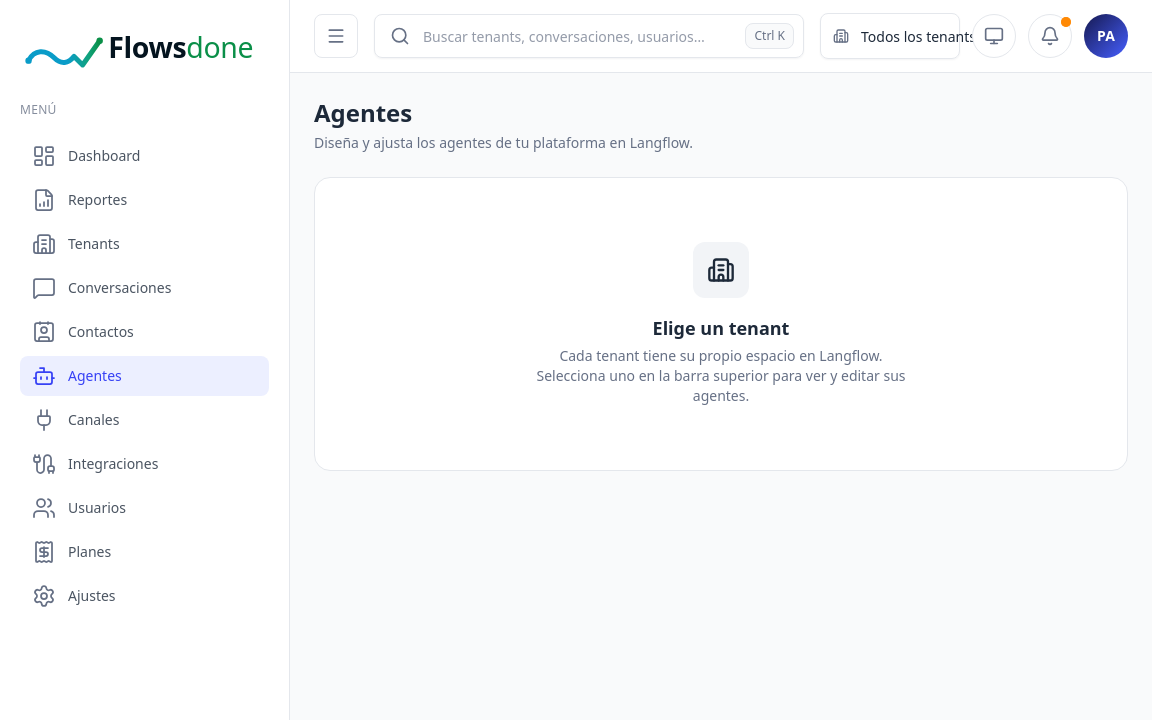
Test case: Agentes: registro y gestión › registra un flujo de la carpeta del proyecto; el nombre sigue al flujo y los ya registrados no se pueden elegir
The image size is (1152, 720).
Select "Clínica Vital" in the dropdown named "Tenant activo" at (928, 36), box 857,14 -> 998,58
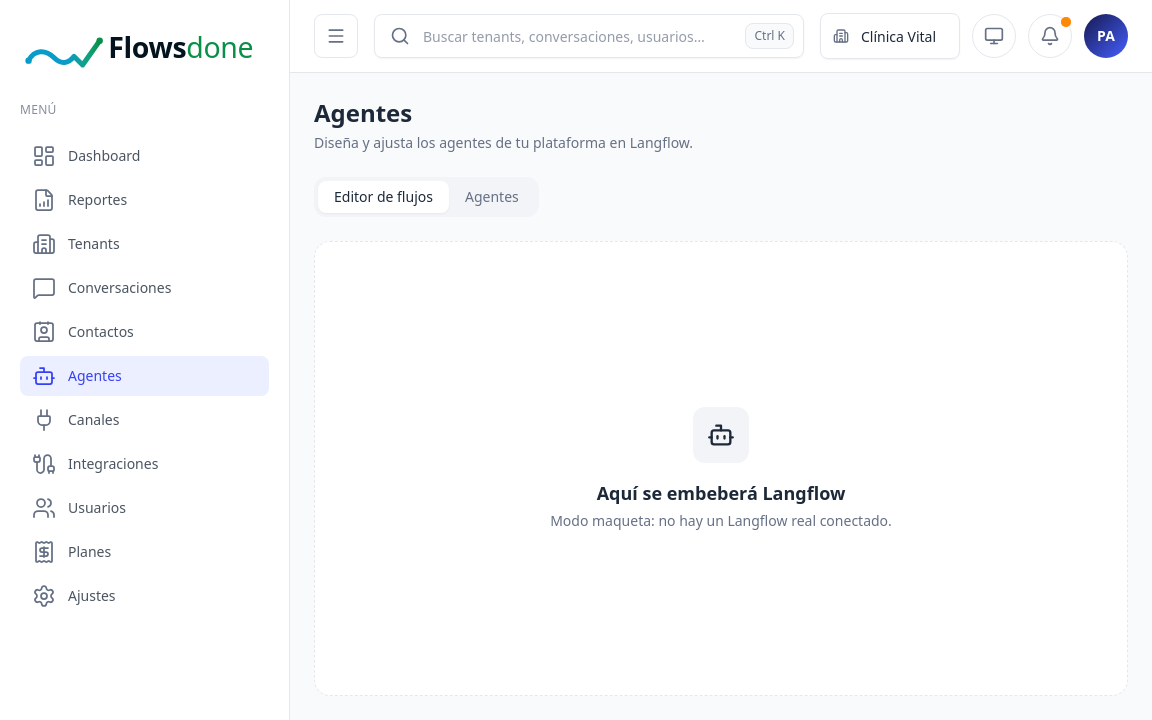
Click the tab "Agentes" at (492, 197), box 449,181 -> 535,213
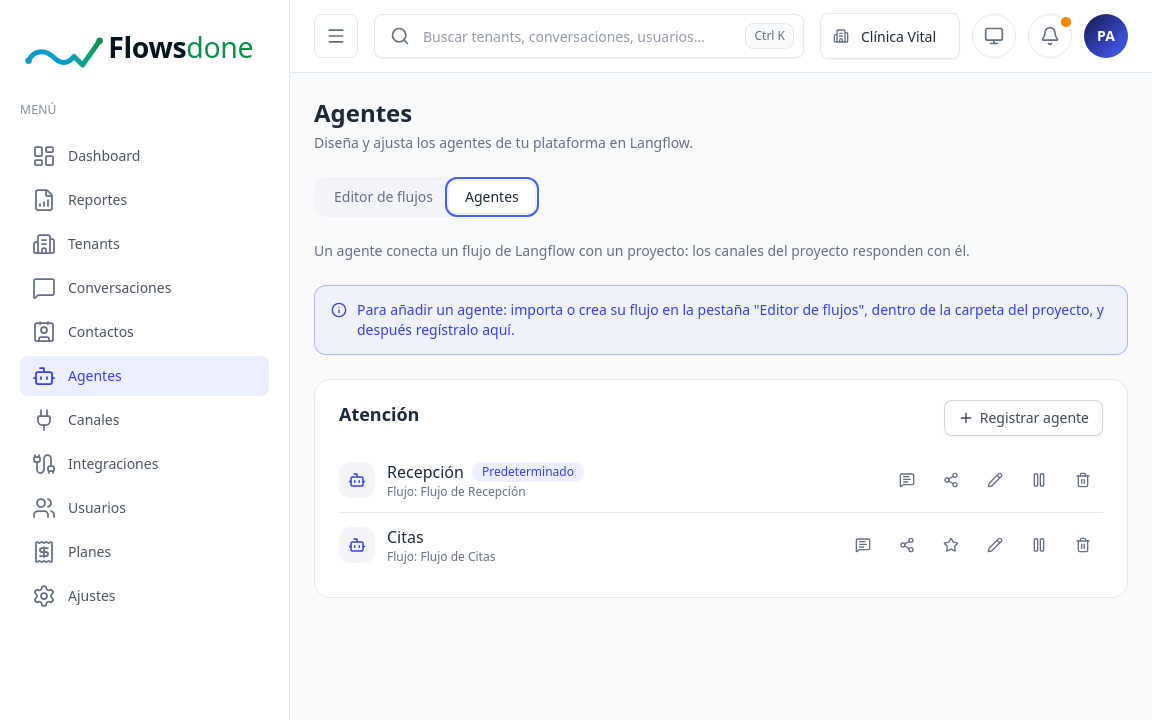
Click the button "Registrar agente" at (1023, 418), box 944,400 -> 1103,436
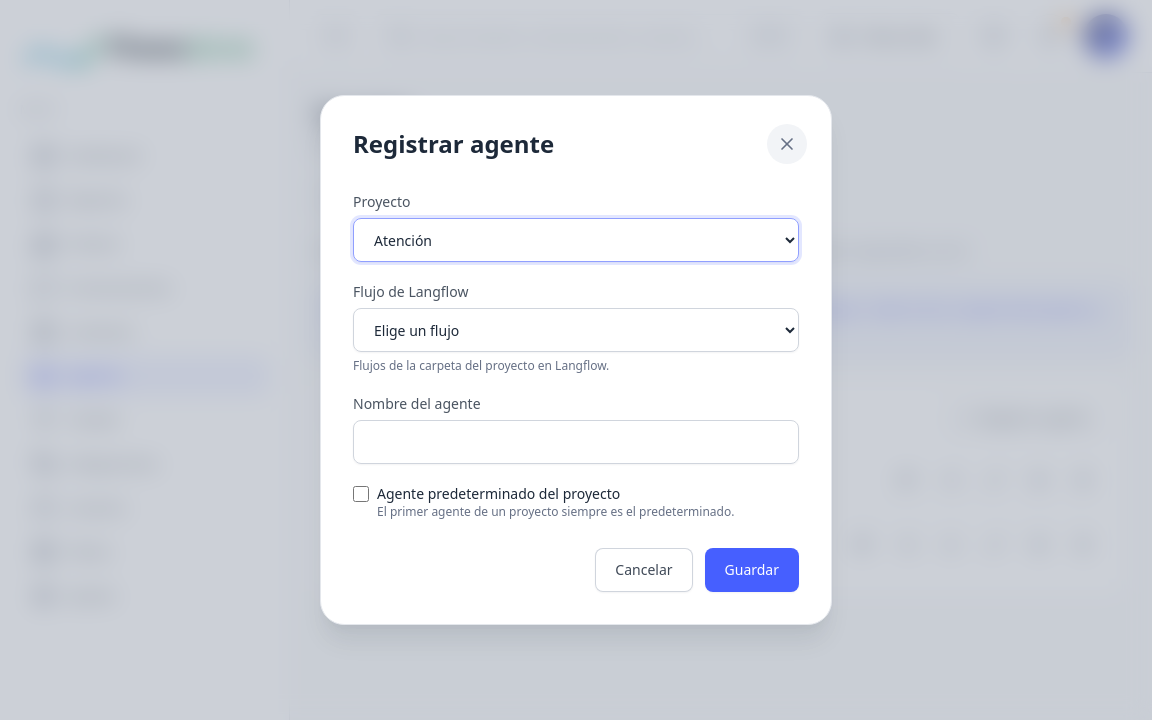
Select "Asistente de ventas" in the dropdown labelled "Flujo de Langflow" at (576, 330), box 353,308 -> 799,352
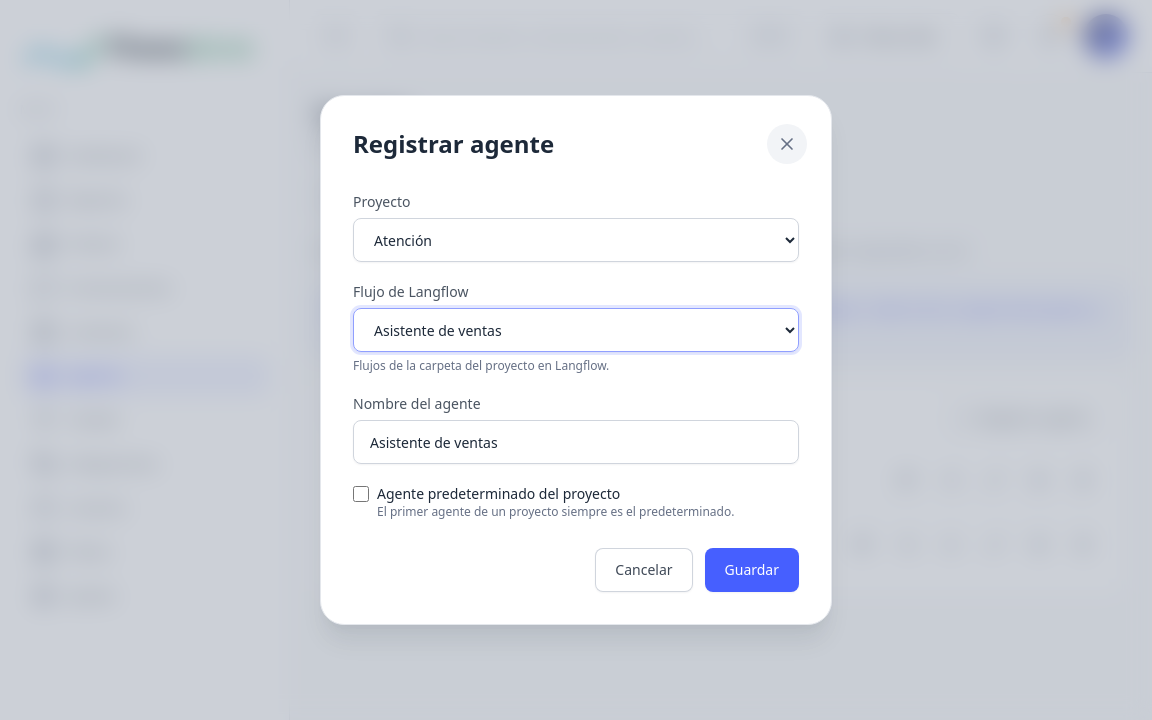
Expected: the field labelled "Nombre del agente" holds "Asistente de ventas", 353,420 -> 799,464
Click the button "Guardar" at (752, 570), box 704,548 -> 799,592
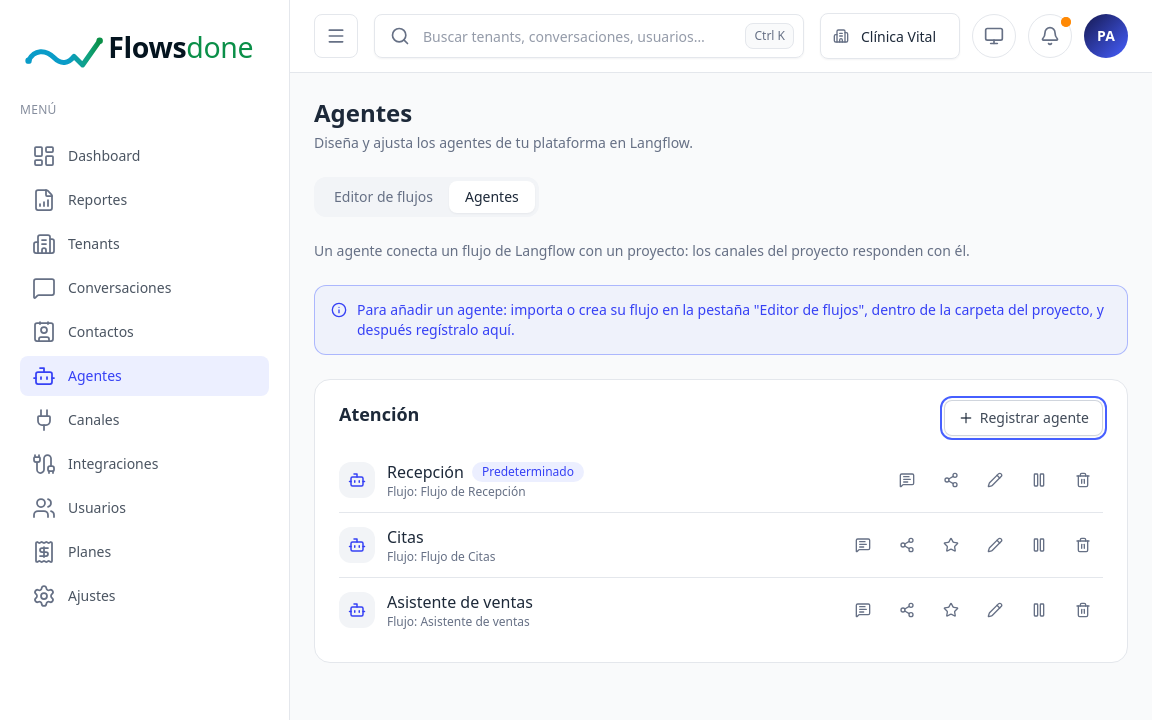
Expected: the text "Asistente de ventas" is shown, 387,590 -> 533,614
